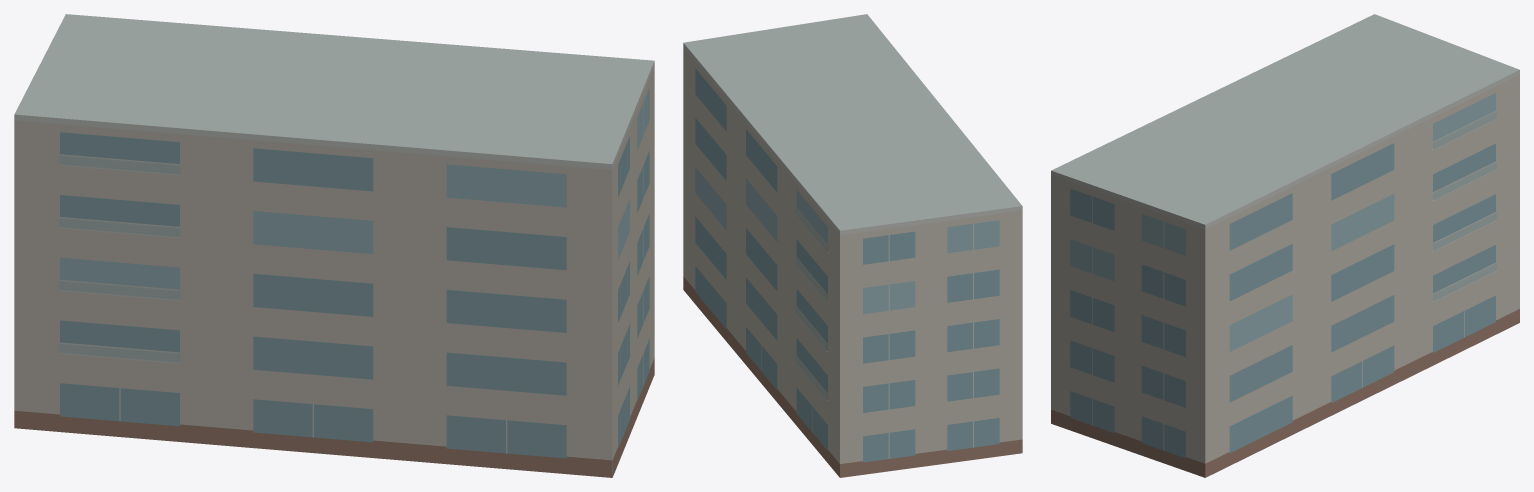
The model's file is survey-upis-32811851.glb.
3 views of the same model, side by side, from view 1: azimuth 30°, elevation 25°; view 2: azimuth 150°, elevation 25°; view 3: azimuth 270°, elevation 25° (orthographic). The views are drawn at different scales.
Visible parts, largest first — view 1: survey-upis-32811851.tmp; view 2: survey-upis-32811851.tmp; view 3: survey-upis-32811851.tmp.
Part boxes in pixels (x1,y1,x2,y2): survey-upis-32811851.tmp: (14,14,654,477); survey-upis-32811851.tmp: (683,14,1022,477); survey-upis-32811851.tmp: (1051,14,1519,477).
Bounding box in the file's own units: 23.68 × 13.25 × 22.25.
